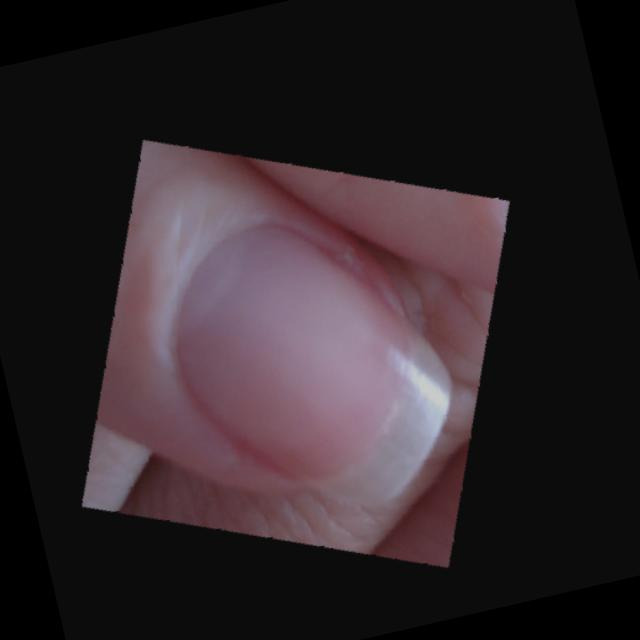Nail: (172, 223, 453, 507)
